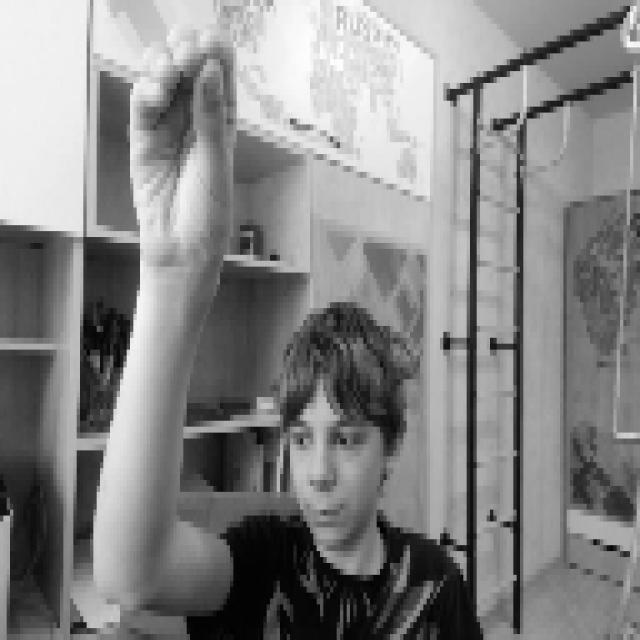left_click: (124, 18, 234, 266)
